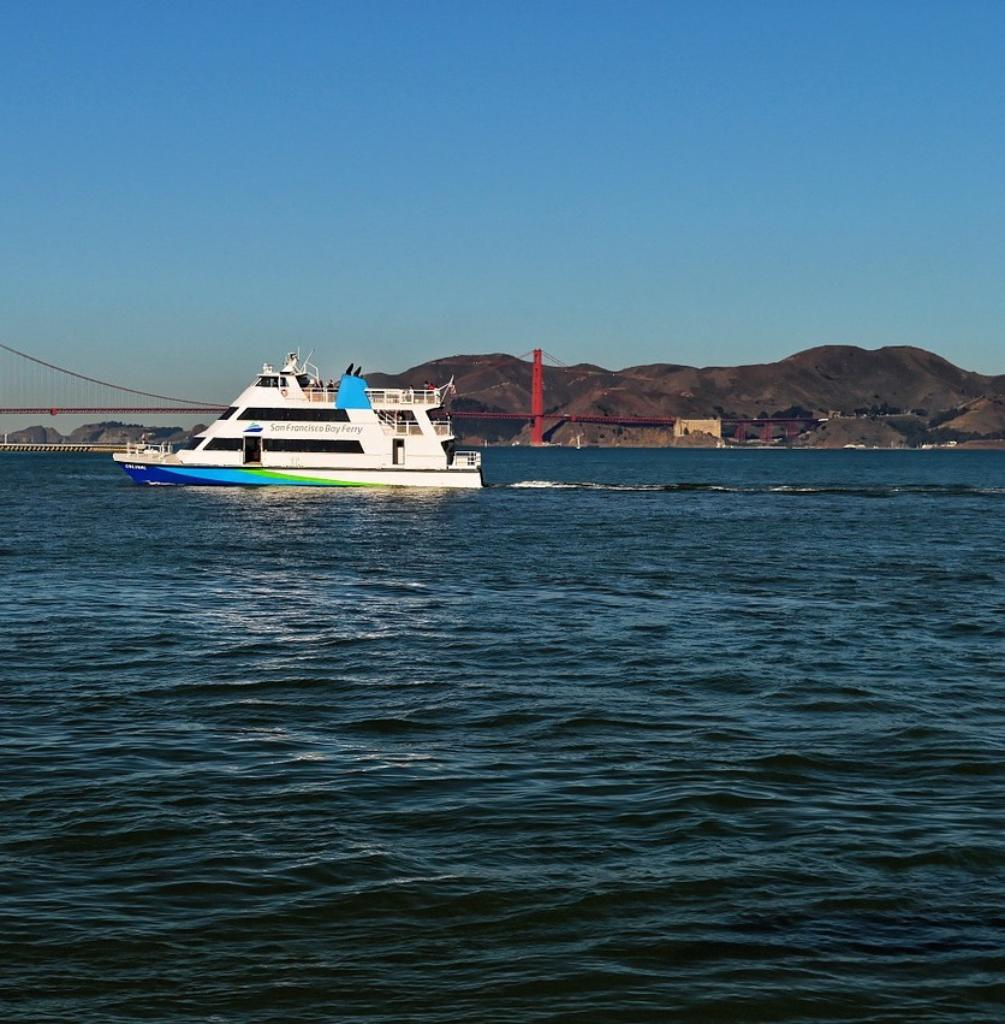PassengerShip: (113, 352, 499, 502)
